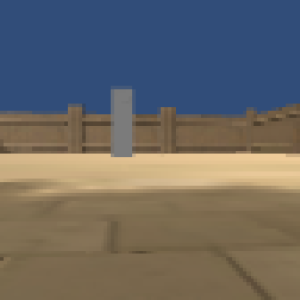wall: (109, 85, 134, 157)
